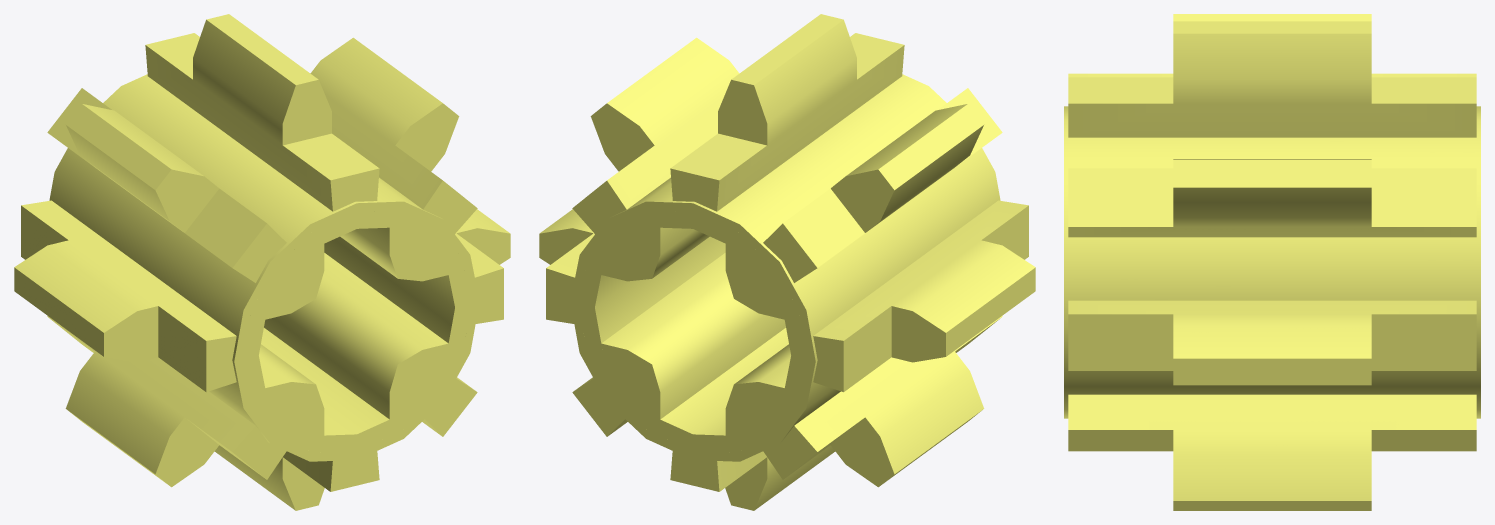
3 views of the same model, side by side, from view 1: azimuth 30°, elevation 25°; view 2: azimuth 150°, elevation 25°; view 3: azimuth 270°, elevation 25° (orthographic). The views are drawn at different scales.
Parts seen in each view (by area): view 1: 10928.dat; view 2: 10928.dat; view 3: 10928.dat.
Boxes of the visible parts, x1,y1,x2,y2 form: 10928.dat: (14,14,510,510); 10928.dat: (539,14,1035,510); 10928.dat: (1064,14,1480,510).
Bounding box in the file's own units: 0.00994 × 0.00994 × 0.008.
